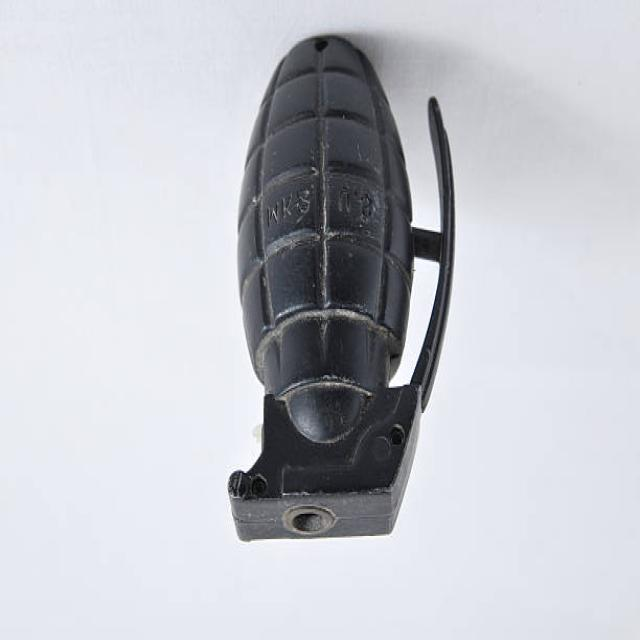grenade: (222, 33, 456, 554)
